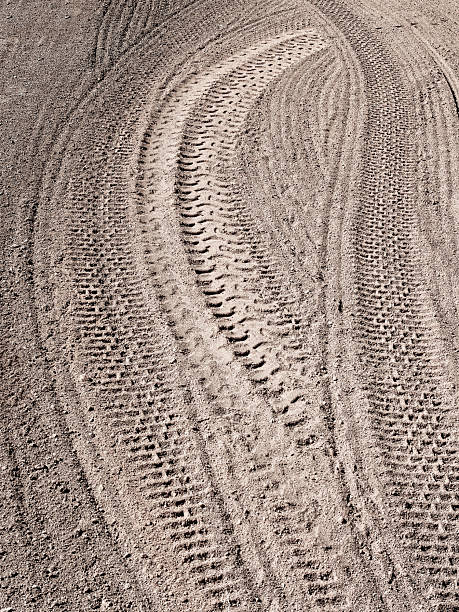vehicle_track: (39, 9, 353, 609), (45, 133, 257, 608), (316, 2, 457, 609), (135, 31, 326, 448), (139, 33, 320, 423), (94, 0, 167, 69)
